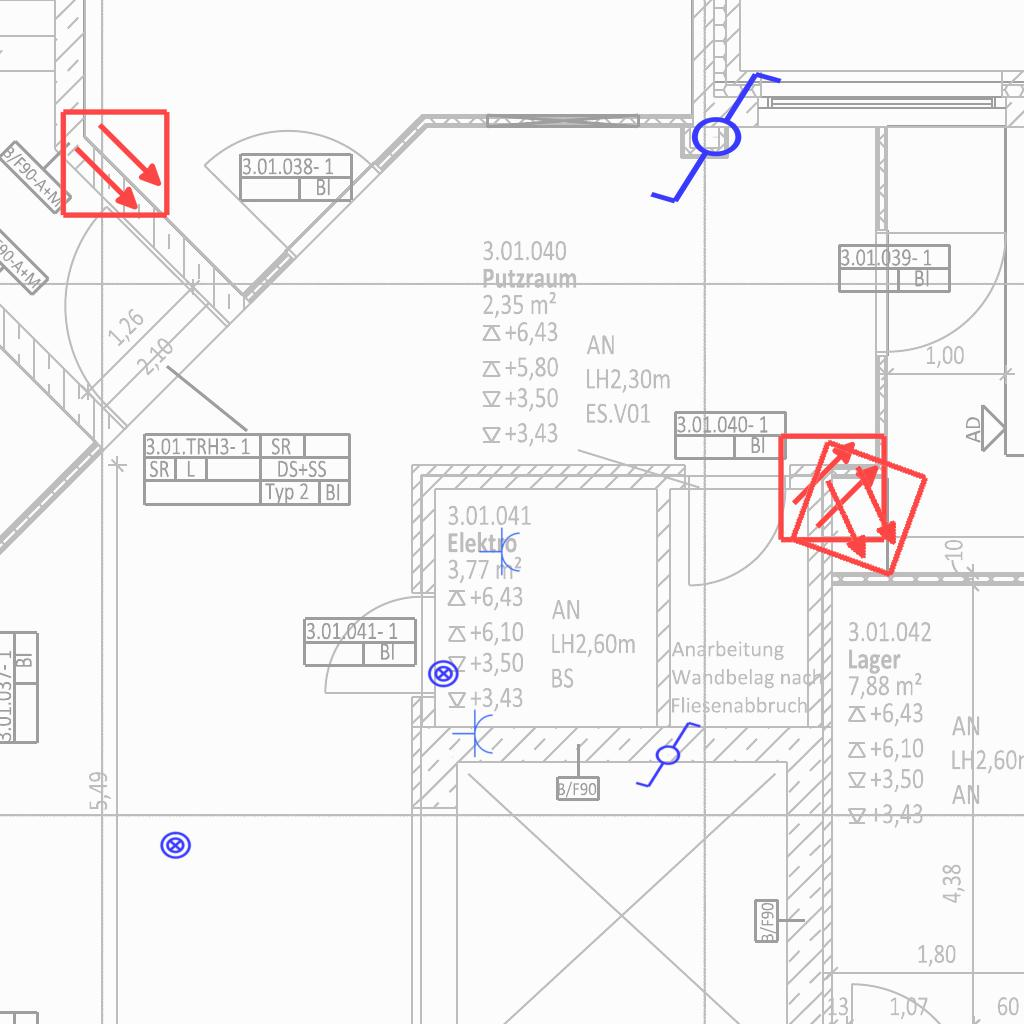RMO_Rauchmelder_optischer: (787, 436, 932, 581), (59, 107, 172, 220), (776, 431, 889, 544)
Schukosteckdose_einfach: (479, 527, 522, 577), (452, 709, 495, 759)
Taster_beleuchtet: (427, 657, 460, 690), (159, 829, 192, 862)
Wechselschalter: (646, 67, 803, 211), (625, 718, 703, 790)
